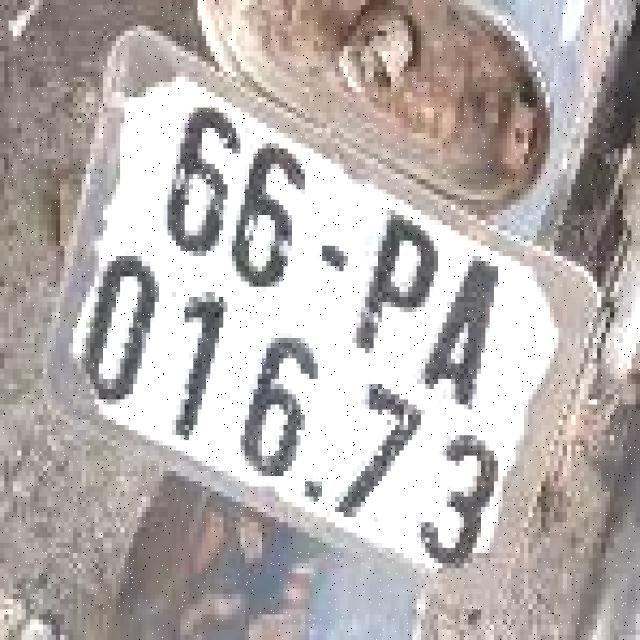0: (56, 232, 177, 435)
1: (150, 274, 243, 461)
3: (397, 418, 526, 595)
6: (142, 80, 255, 290), (217, 318, 332, 507), (219, 122, 321, 310)
7: (317, 360, 438, 547)
A: (403, 232, 523, 433)
P: (334, 188, 458, 394)
